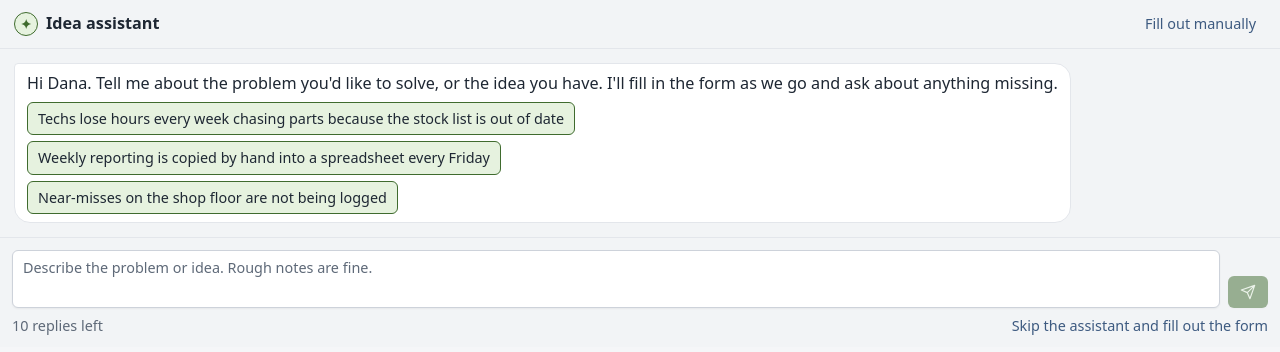
Test: AssistChat turns › says it kept an edit the person made while the turn was in flight
In the text box named "Message the assistant": (616, 279) [12,250,1220,308], type "Hello"
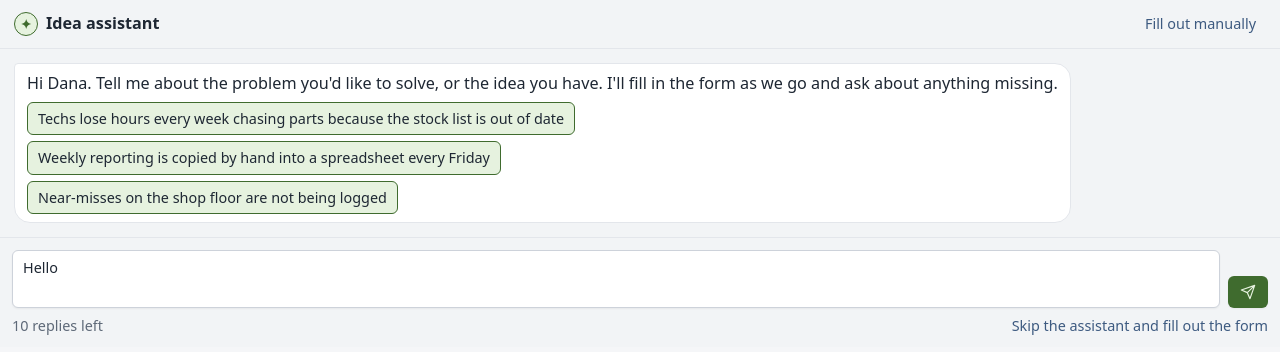
Click the button named "Send": (1248, 292) [1228,276,1268,308]
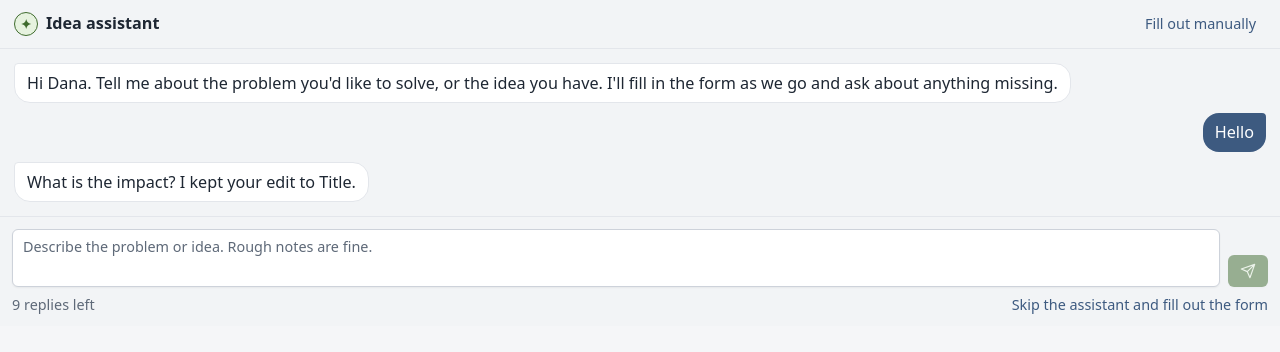
Expected: the text "What is the impact? I kept your edit to Title." is shown, [14,162,369,202]
